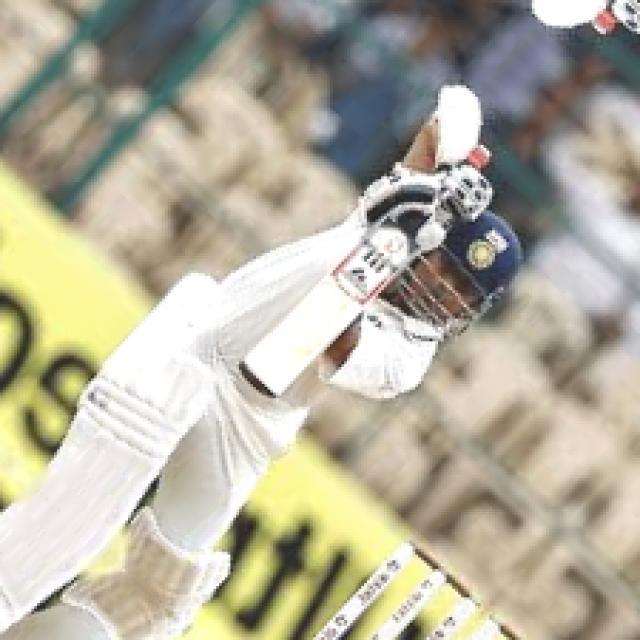bat: (219, 233, 414, 416)
toe: (230, 353, 274, 406)
